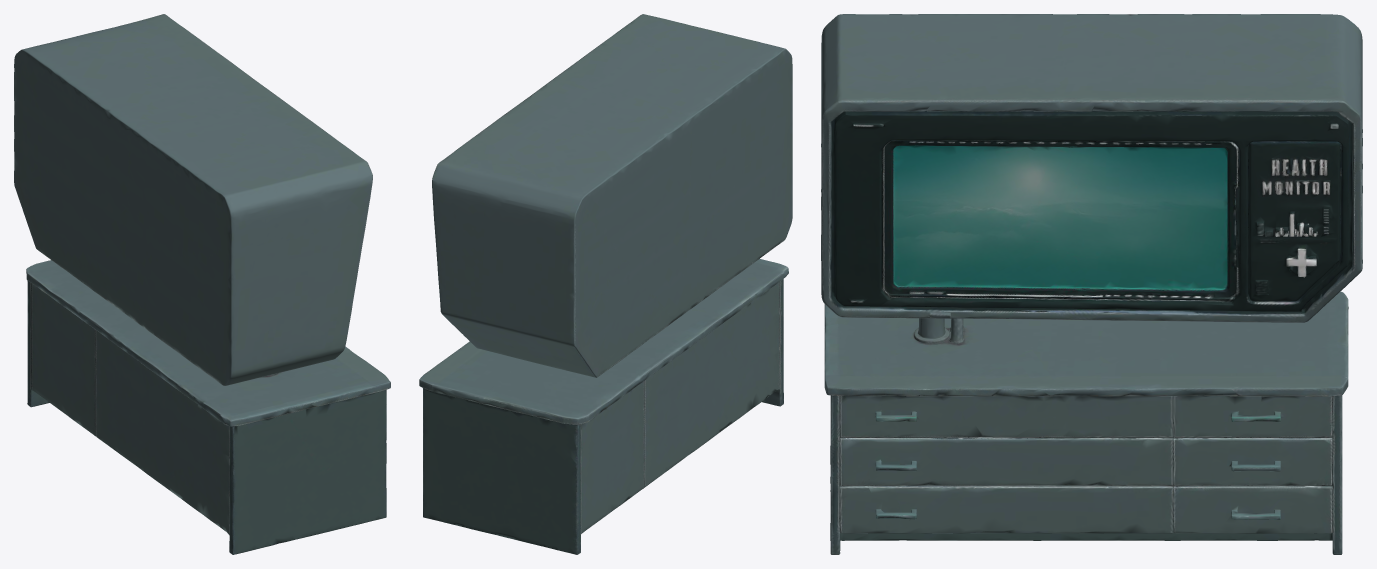
File: health monitor.glb
3 views of the same model, side by side, from view 1: azimuth 30°, elevation 25°; view 2: azimuth 150°, elevation 25°; view 3: azimuth 270°, elevation 25° (orthographic). The views are drawn at different scales.
Parts seen in each view (by area): view 1: tripo_node_0a567c3b-e780-426a-ae43-96b3bfa7b6ba; view 2: tripo_node_0a567c3b-e780-426a-ae43-96b3bfa7b6ba; view 3: tripo_node_0a567c3b-e780-426a-ae43-96b3bfa7b6ba.
Part boxes in pixels (left/top/right/bottom): tripo_node_0a567c3b-e780-426a-ae43-96b3bfa7b6ba: left=14, top=14, right=390, bottom=554; tripo_node_0a567c3b-e780-426a-ae43-96b3bfa7b6ba: left=419, top=14, right=792, bottom=554; tripo_node_0a567c3b-e780-426a-ae43-96b3bfa7b6ba: left=821, top=14, right=1362, bottom=554.
Size of the model in its own units: 0.4484 by 0.9073 by 1.
Materials: 1 (1 with a texture image).
